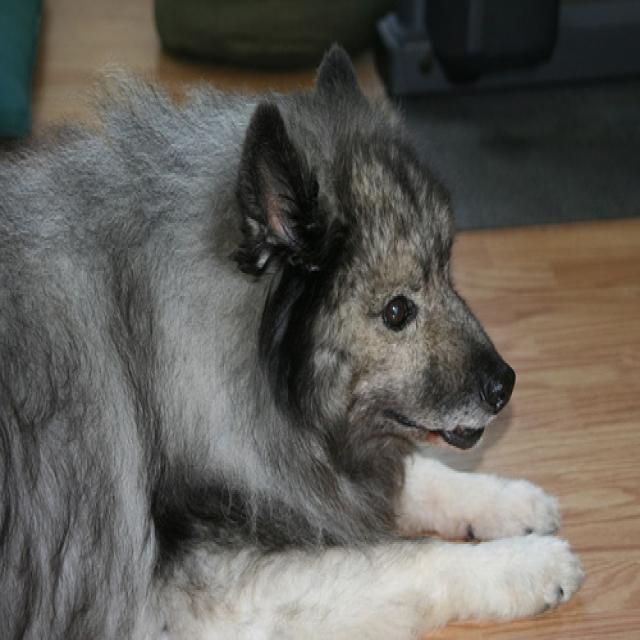dog-keeshond: (1, 27, 598, 636)
